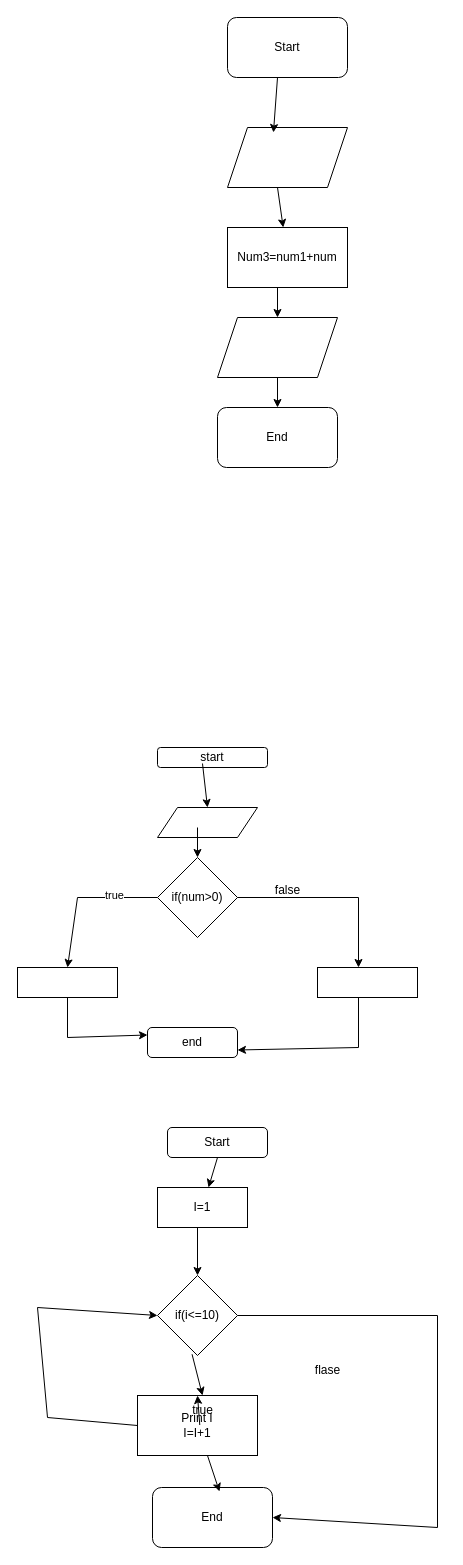
Some shapes in this 463 by 1565 pixel diagram are drawn without their labels. The shapes that lost their labels are listed below. From the top down, each one's centre as x and y in pixels, then its label:
At point (287, 157): "Enter num1,num2".
At point (277, 347): "output:num3".
At point (207, 822): "Enter Num".
At point (67, 982): "printf(positive)".
At point (367, 982): "printf(negative)".
